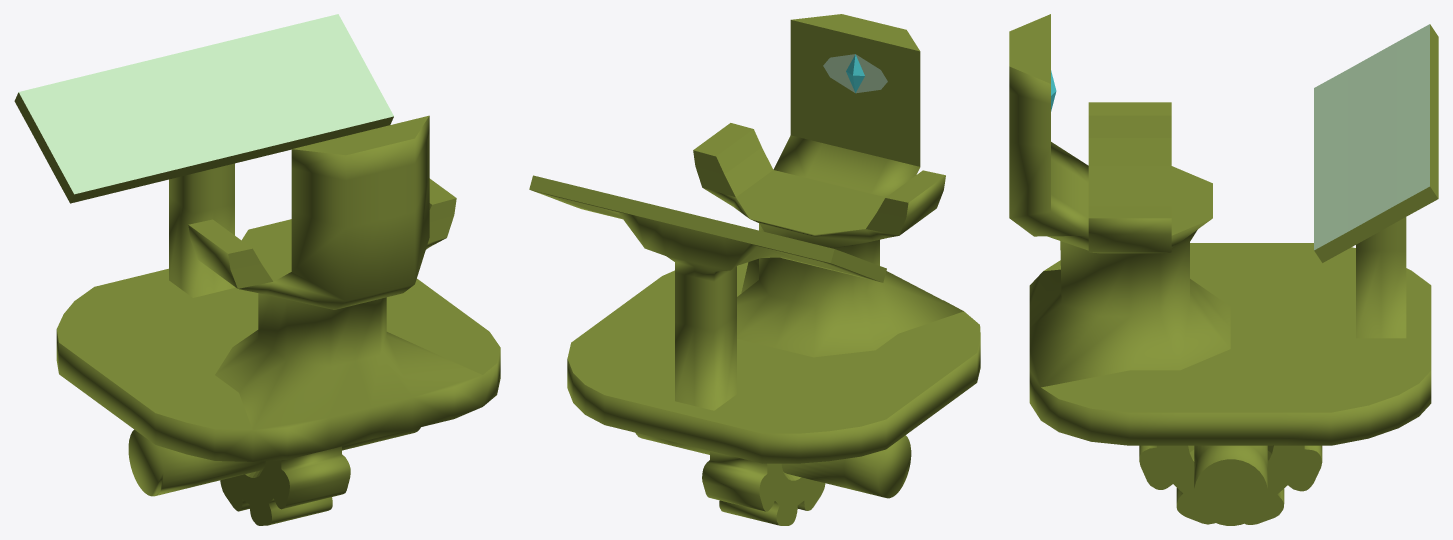
File: Aztec_Chair_2V7.fbx
The picture shows the model from 3 angles, left to right: view 1: azimuth 30°, elevation 25°; view 2: azimuth 150°, elevation 25°; view 3: azimuth 270°, elevation 25°; orthographic projection. The views are drawn at different scales.
Visible parts, largest first — view 1: Cube, Cylinder; view 2: Cube, Cylinder; view 3: Cube, Cylinder.
Boxes of the visible parts, <box> form: Cube: <box>14,14,500,461</box>; Cylinder: <box>128,427,420,525</box>; Cube: <box>529,14,980,463</box>; Cylinder: <box>635,432,911,525</box>; Cube: <box>1009,14,1438,445</box>; Cylinder: <box>1139,445,1322,525</box>.
Bounding box in the file's own units: 404 × 510 × 432.
